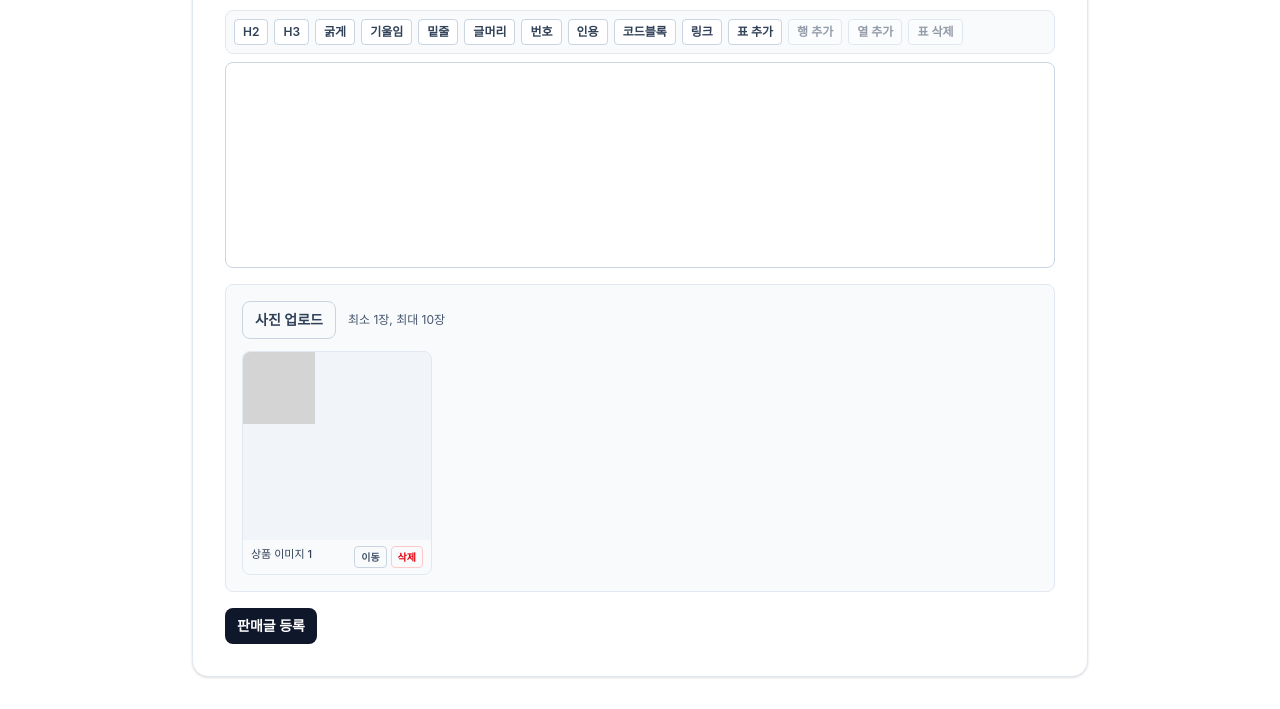
Test: MarketCreatePageClient › validates required fields
(page scrolled)
Click the button with test id "market-create-submit": (271, 626) [225,608,317,644]
(page scrolled)
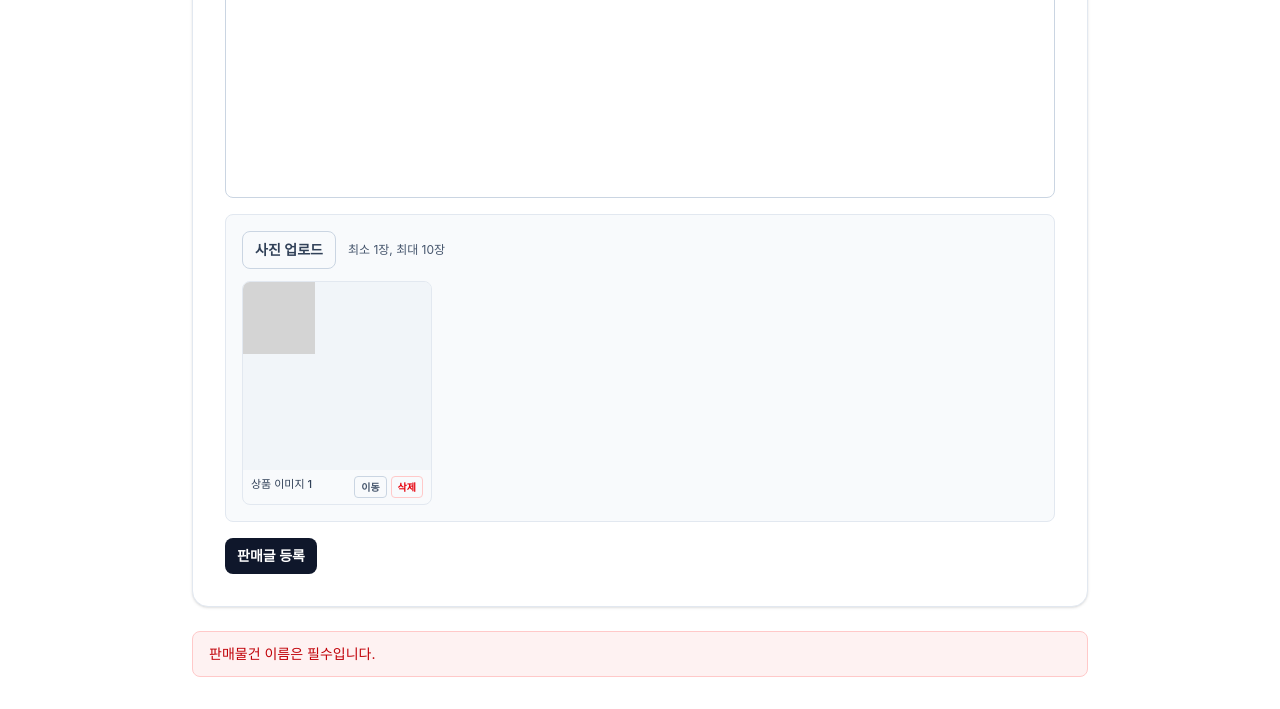
Expected: the text "판매물건 이름은 필수입니다." is shown, [192,631,1088,677]
